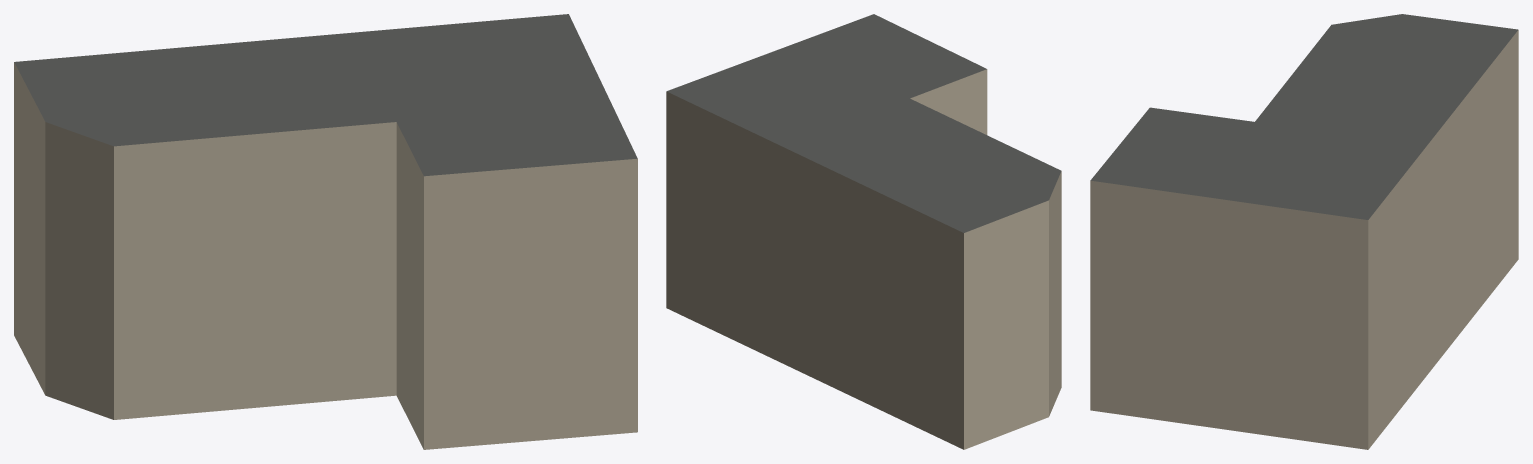
3 views of the same model, side by side, from view 1: azimuth 30°, elevation 25°; view 2: azimuth 150°, elevation 25°; view 3: azimuth 270°, elevation 25° (orthographic). The views are drawn at different scales.
Visible parts, largest first — view 1: tuile; view 2: tuile; view 3: tuile.
Part boxes in pixels (box(x1,y1,x2,y2)): tuile: box(14, 14, 637, 449); tuile: box(666, 14, 1061, 449); tuile: box(1090, 14, 1518, 449).
Size of the model in its own units: 17.2 by 8.94 by 15.1.
